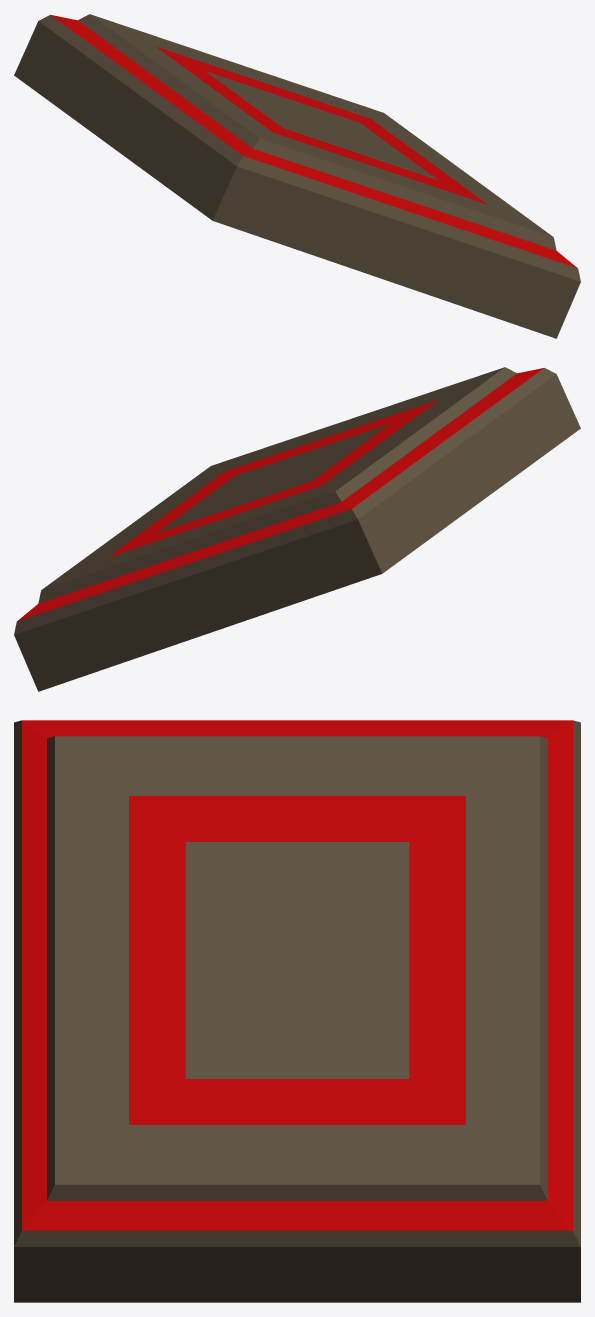
Rendered from ButtonB_Red.glb.
The picture shows the model from 3 angles, top to bottom: view 1: azimuth 30°, elevation 25°; view 2: azimuth 150°, elevation 25°; view 3: azimuth 270°, elevation 25°; orthographic projection. The views are drawn at different scales.
Parts seen in each view (by area): view 1: ButtonB; view 2: ButtonB; view 3: ButtonB.
Part boxes in pixels (x1=…): ButtonB: x1=14, y1=14, x2=580, y2=338; ButtonB: x1=14, y1=367, x2=580, y2=691; ButtonB: x1=14, y1=720, x2=580, y2=1302.
Size of what is drawn, in the model's own units: 0.1875 by 0.1259 by 0.1751.
Materials: 2 (2 with a texture image).
